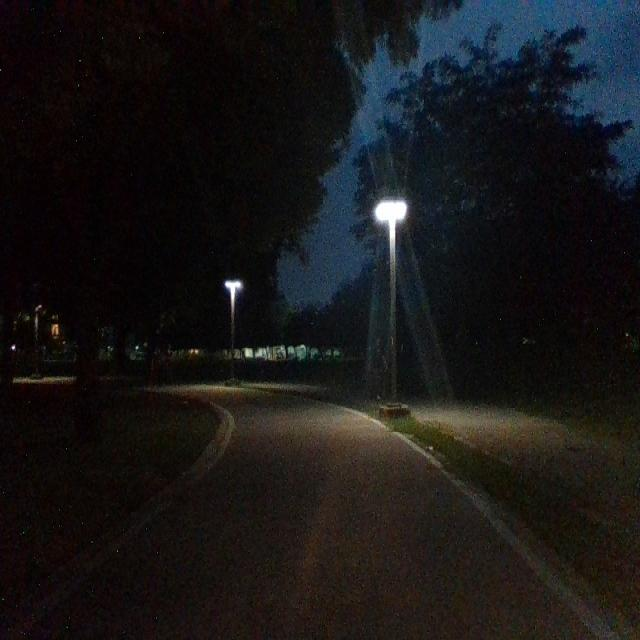lane: (26, 385, 601, 638)
